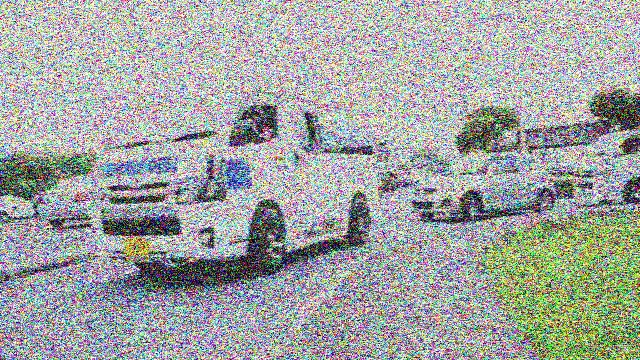van: (84, 92, 394, 287)
